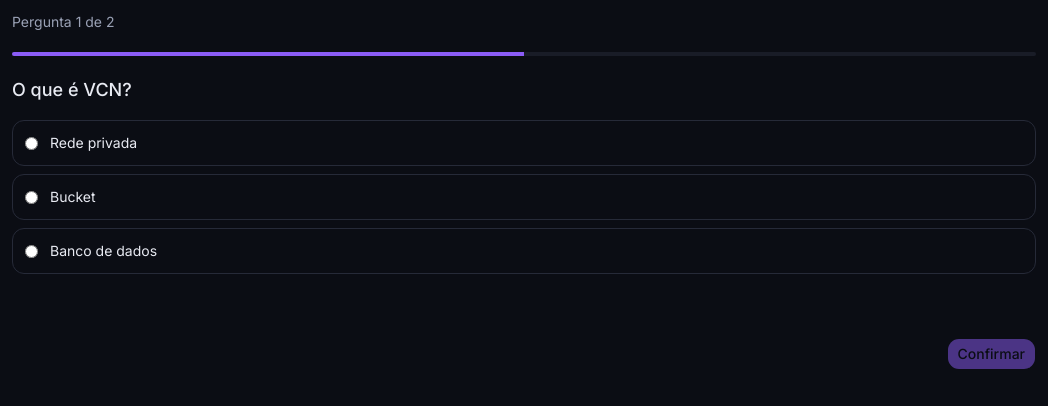
it: InteractiveQuiz › trava as opções depois de confirmar
Click the radio button labelled "Rede privada" at (32, 143), box [25, 136, 38, 150]
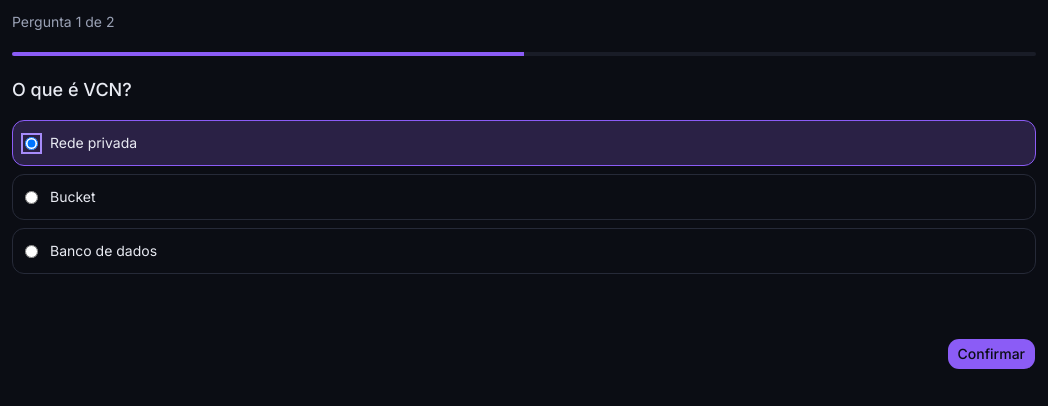
Click the button "Confirmar" at (991, 354), box [947, 338, 1036, 370]
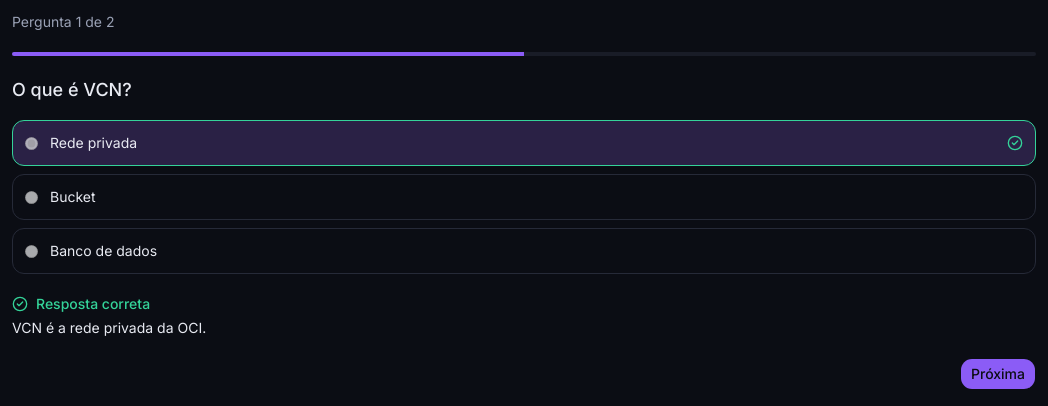
expect the radio button labelled "Rede privada" is checked: met, box [25, 136, 38, 150]
expect the radio button labelled "Rede privada" is disabled: met, box [25, 136, 38, 150]
expect the radio button labelled "Bucket" is disabled: met, box [25, 190, 38, 204]
